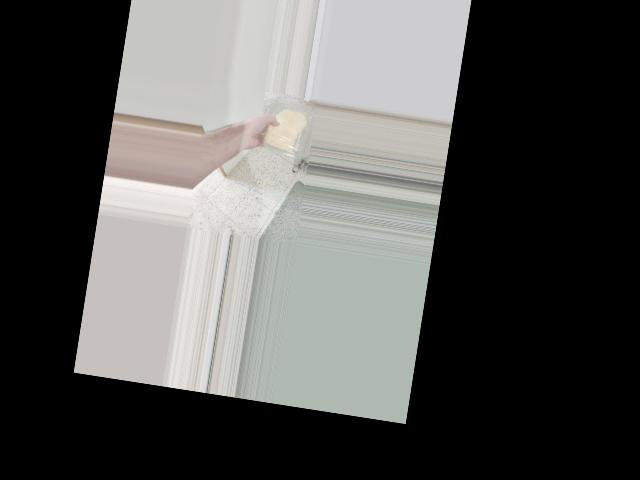cheese: (260, 104, 312, 159)
